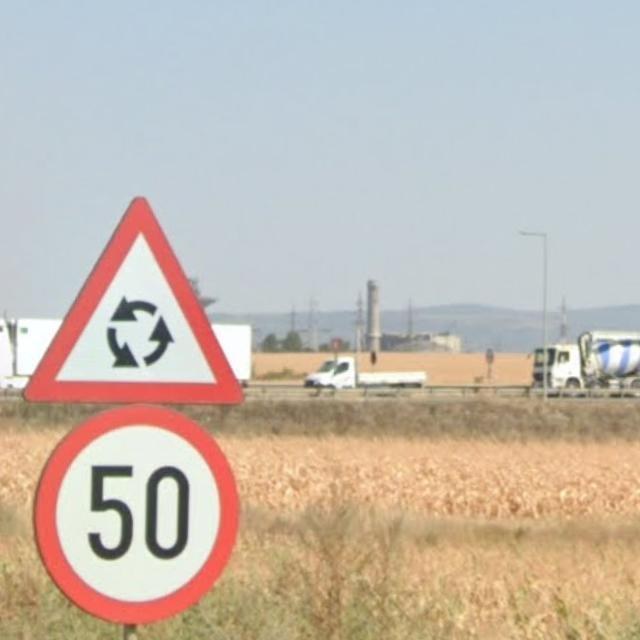forb_speed_over_50: (32, 403, 240, 625)
